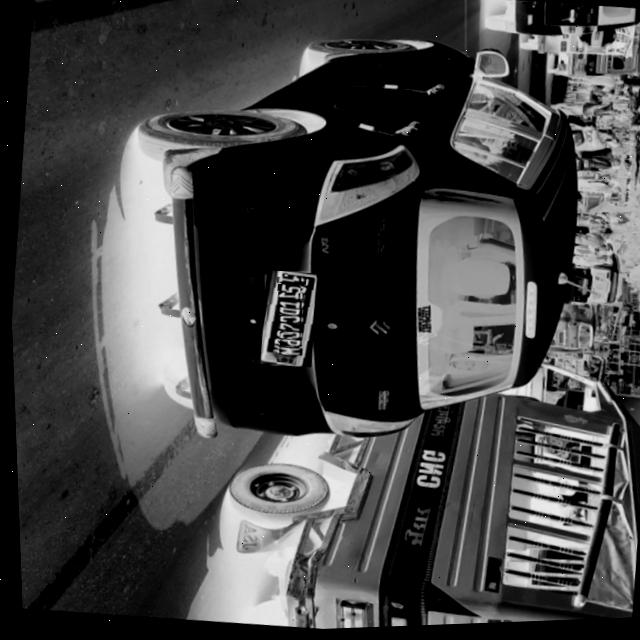0: (274, 332, 297, 342)
1: (273, 276, 298, 287), (273, 301, 298, 311), (273, 293, 297, 303)
5: (273, 285, 297, 295)
7: (273, 324, 298, 334)
C: (274, 316, 298, 327)
D: (273, 308, 299, 319)
IND: (272, 355, 298, 366)
Indian_registered: (257, 273, 313, 368)
M: (274, 348, 298, 358)
P: (275, 340, 297, 349)
